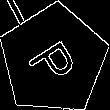P_NE: (24, 31, 84, 88)
